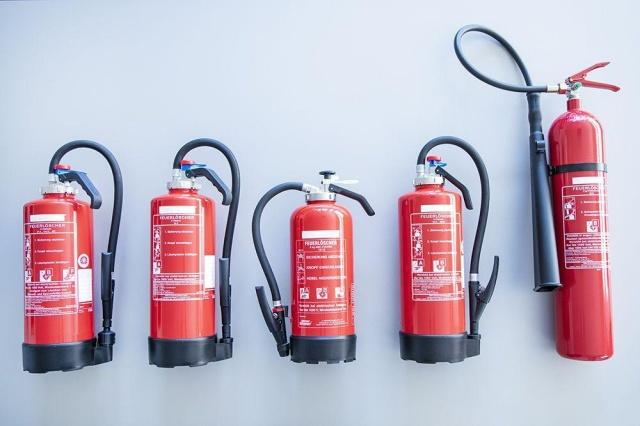APAR: (546, 60, 622, 361), (20, 161, 101, 374), (146, 155, 219, 370), (395, 154, 468, 363), (288, 165, 356, 365)
